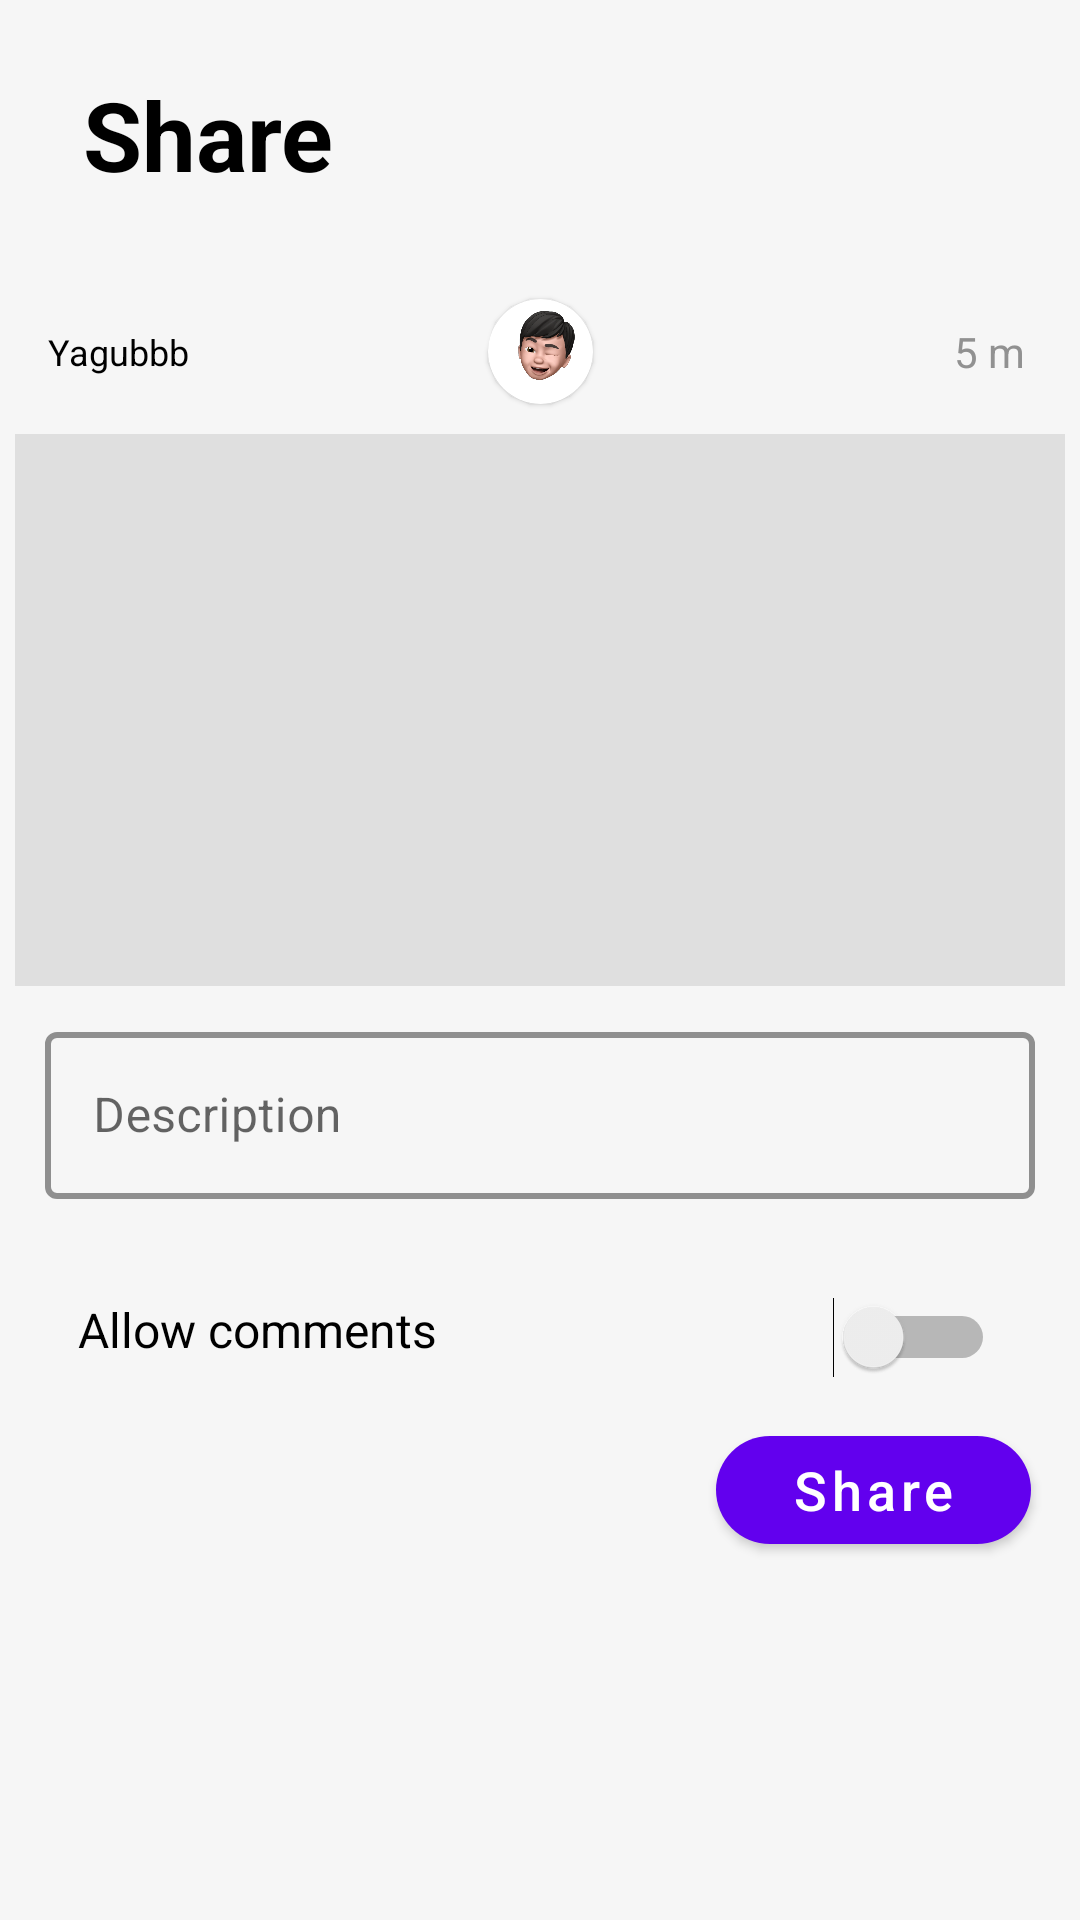

Screen size 1080 × 1920. Icon name, then its center in pixels as (x=x, y=y):
profile: (x=540, y=351)
